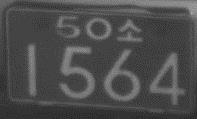0: (84, 16, 111, 41)
1: (18, 43, 49, 97)
4: (148, 51, 186, 105)
5: (58, 45, 95, 99), (54, 14, 80, 39)
6: (103, 48, 142, 102)
소: (116, 18, 143, 43)
